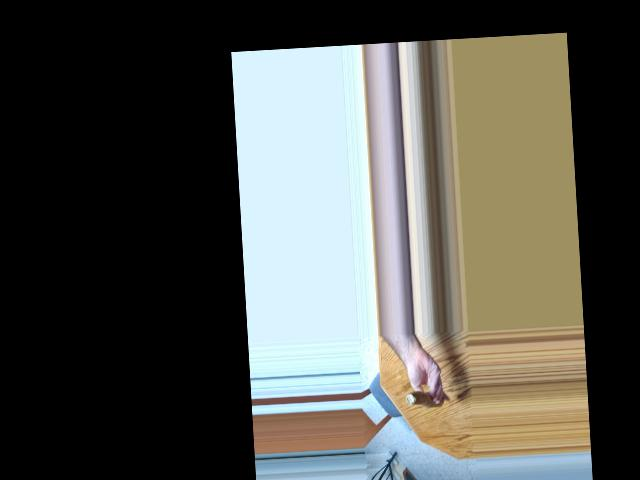sweet_potato: (410, 395, 445, 409)
